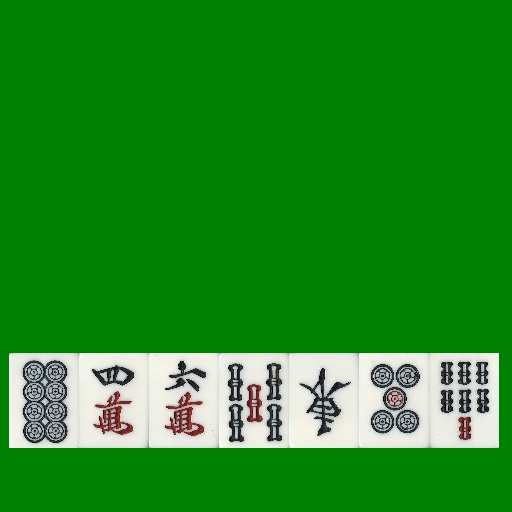4m: (79, 353, 149, 448)
5p: (359, 353, 429, 448)
5s: (219, 353, 289, 448)
6m: (149, 353, 219, 448)
7s: (429, 353, 499, 448)
8p: (9, 353, 79, 448)
east: (289, 353, 359, 448)
